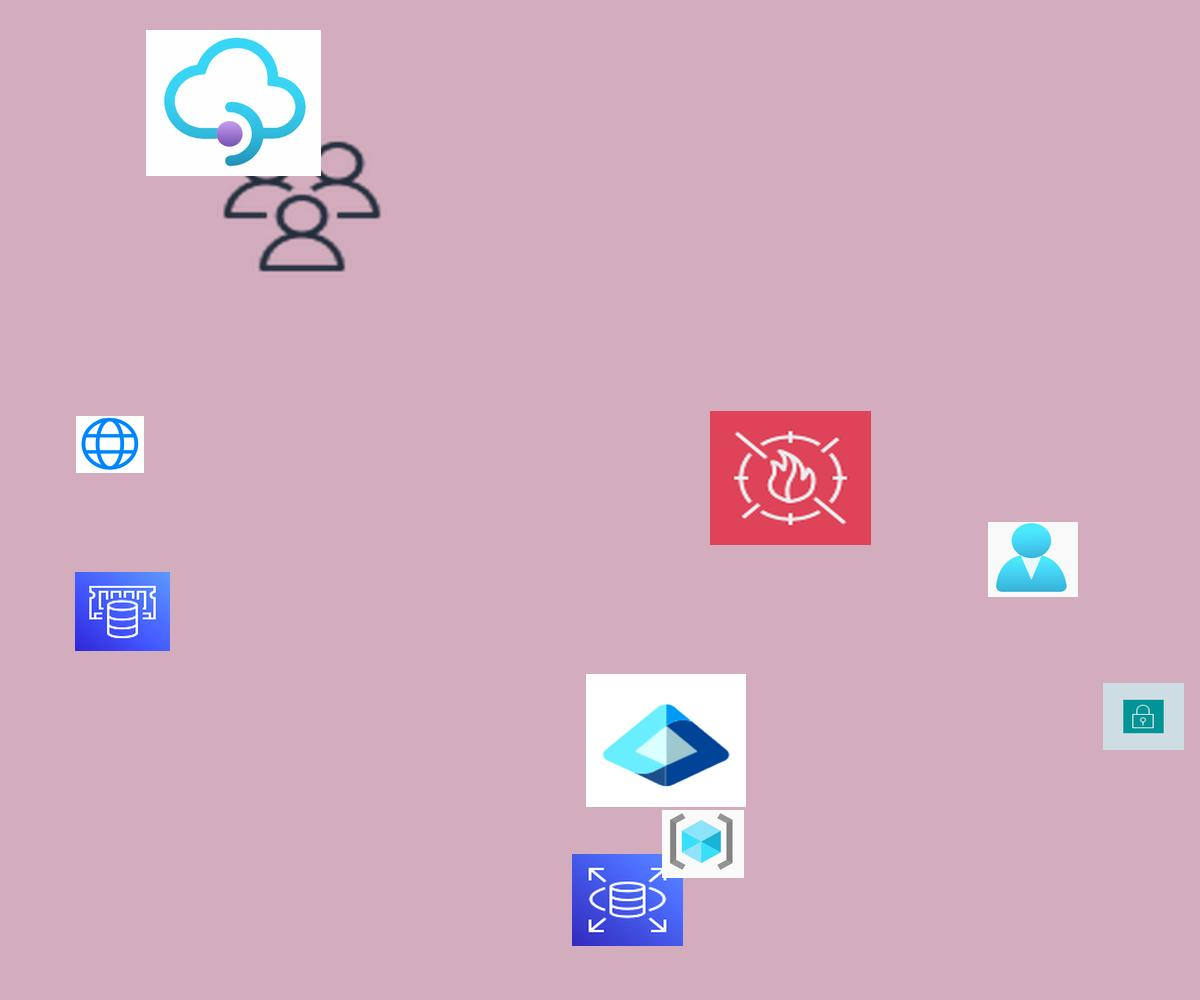AWS-ElastiCache: (75, 572, 170, 651)
AWS-Private-subnet: (1103, 683, 1184, 750)
AWS-RDS: (572, 854, 683, 946)
AWS-Res_Users: (217, 136, 387, 277)
AWS-WAF: (710, 411, 871, 545)
Azure_api_gateway: (146, 30, 321, 176)
Azure_http: (76, 416, 144, 473)
Azure_microsoft_entra: (586, 674, 746, 807)
Azure_resource_group: (662, 810, 744, 878)
Azure_users: (988, 522, 1078, 597)
